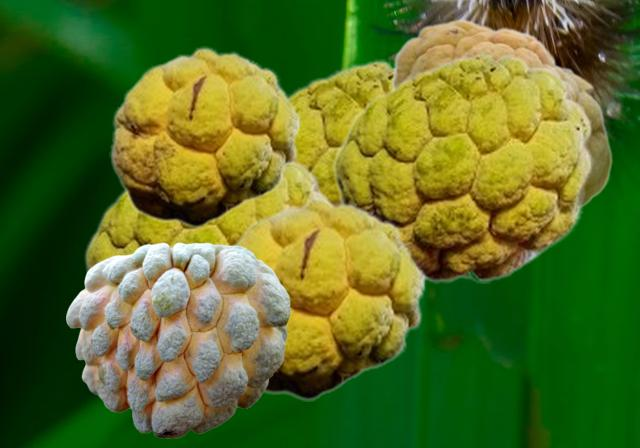atis: (331, 52, 592, 282), (66, 242, 289, 437), (390, 18, 611, 206), (230, 196, 425, 400), (109, 46, 300, 227), (288, 59, 428, 282), (83, 157, 332, 274)
